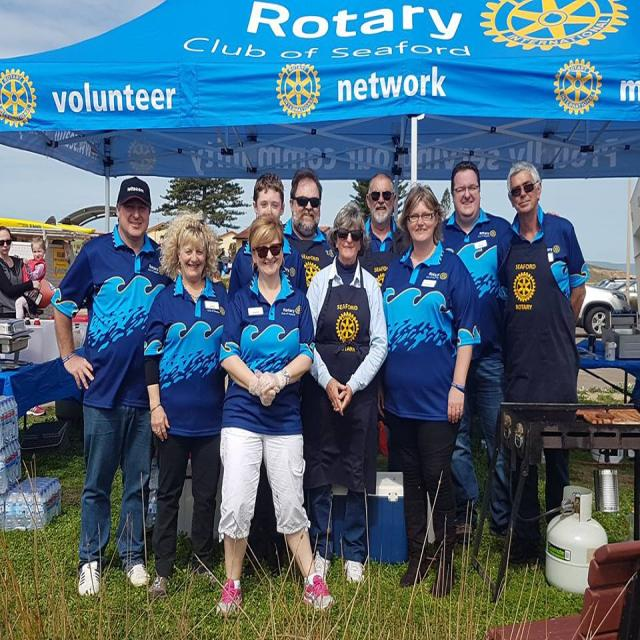body: (212, 213, 336, 622), (48, 173, 164, 601), (437, 159, 560, 543), (368, 181, 477, 603), (496, 160, 592, 570), (141, 210, 238, 610), (304, 204, 388, 584), (226, 170, 297, 302), (278, 168, 340, 294), (358, 172, 409, 295), (0, 225, 42, 319), (15, 234, 48, 320), (221, 257, 233, 278)
